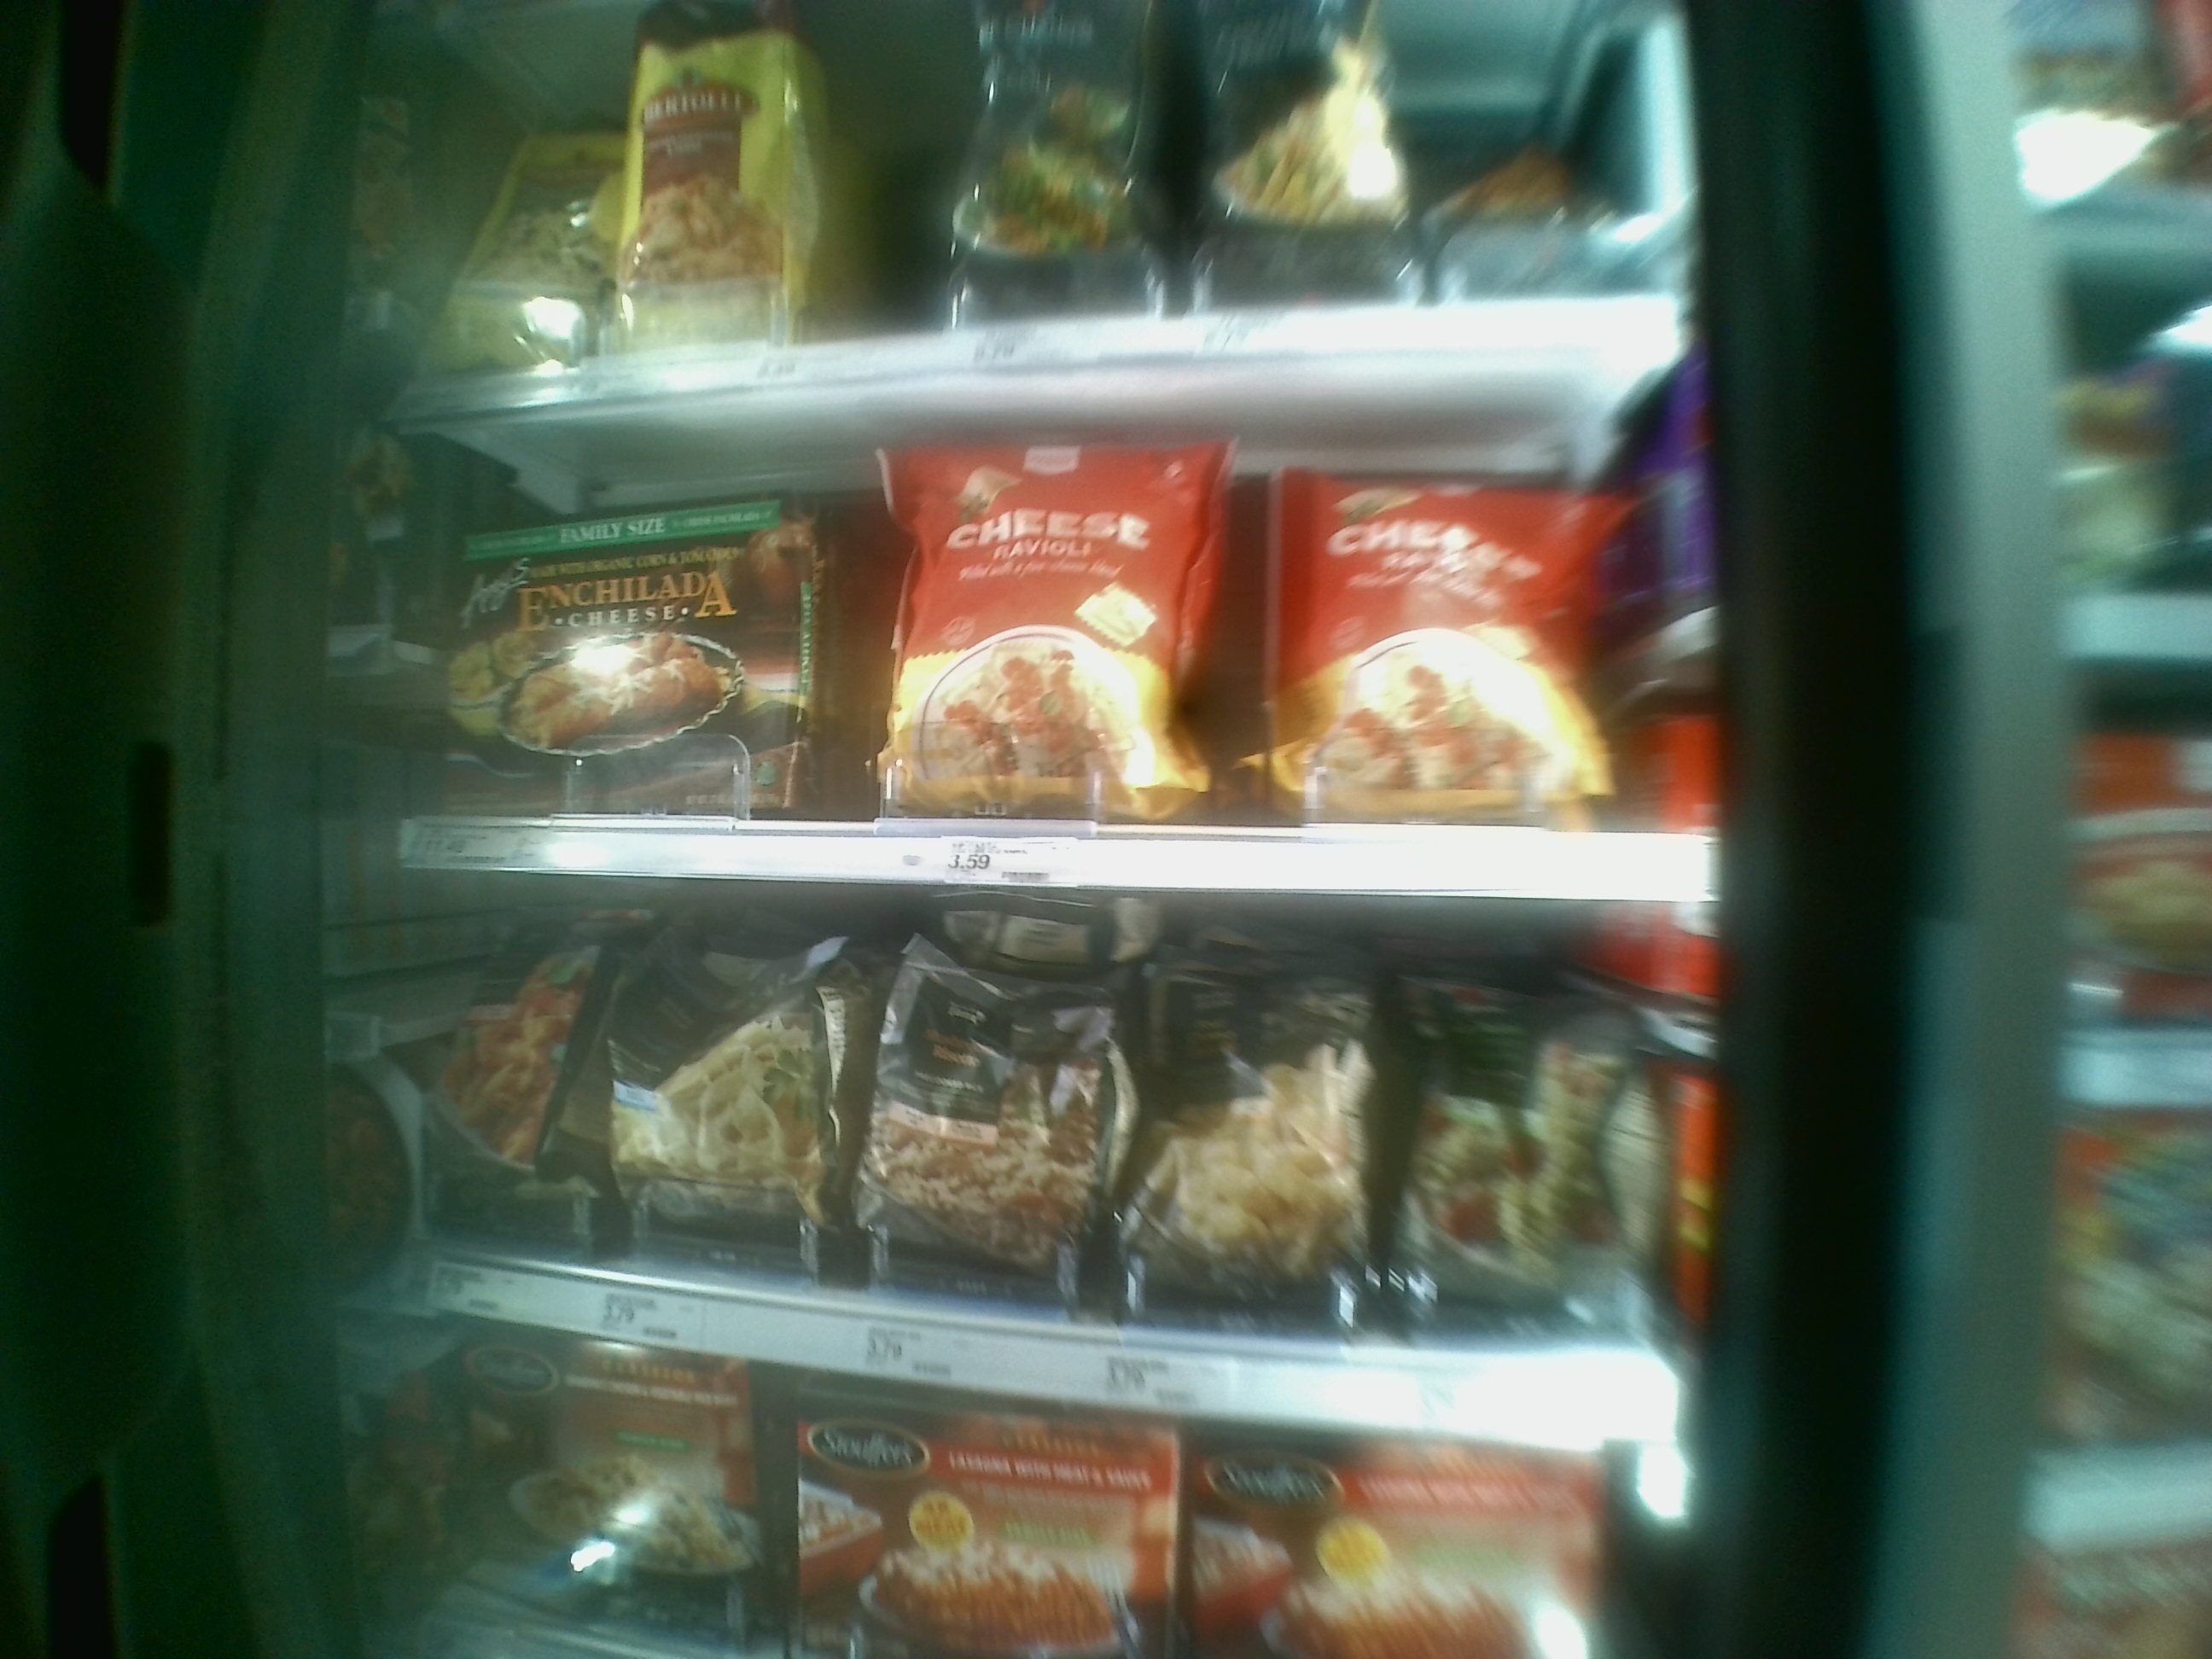shelf: (399, 870, 1702, 1452), (395, 364, 1702, 899)
